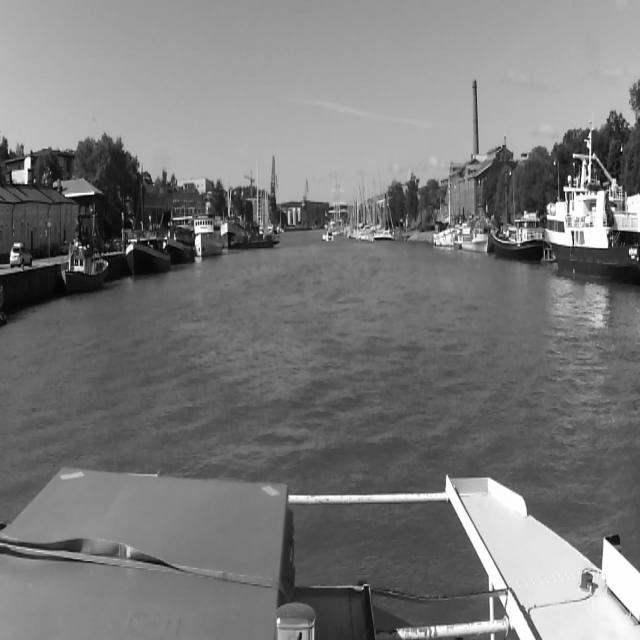ship: (550, 124, 640, 278), (493, 210, 547, 265), (61, 234, 109, 292), (124, 226, 172, 276), (196, 213, 224, 259), (169, 216, 195, 265), (231, 226, 281, 249), (462, 219, 492, 254), (373, 228, 395, 242), (322, 231, 333, 243)
